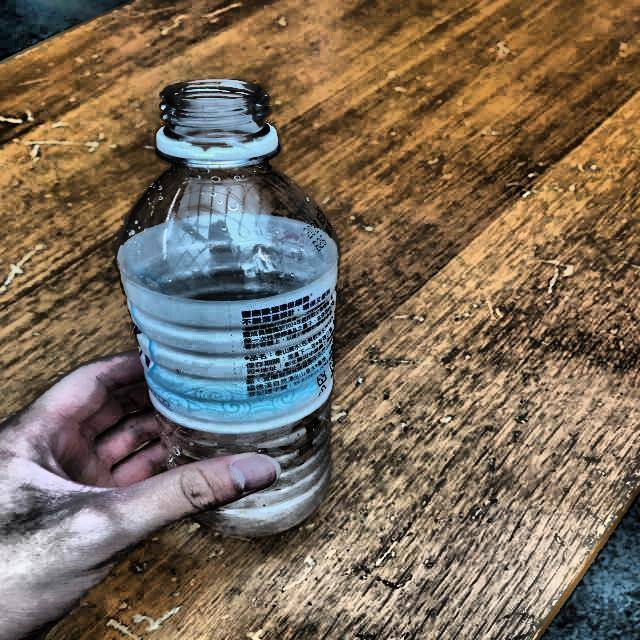plastic bottle: (117, 79, 339, 538)
